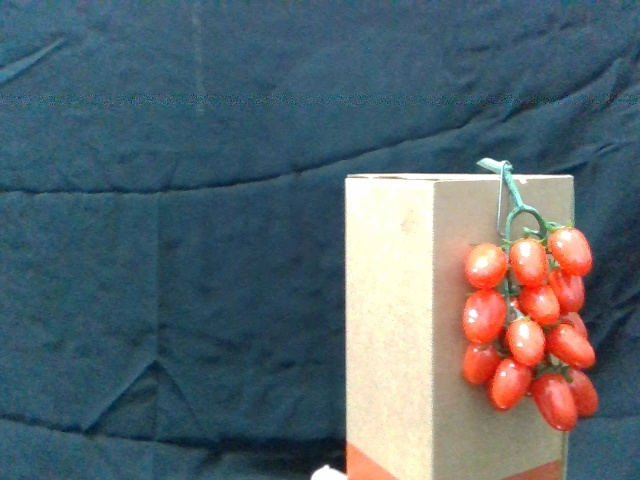tomato: (532, 365, 580, 434), (461, 288, 507, 348), (546, 222, 597, 275), (560, 362, 603, 419), (545, 322, 598, 368), (489, 358, 531, 414), (468, 241, 511, 293), (519, 277, 563, 326), (509, 236, 550, 288), (506, 318, 547, 370), (461, 340, 500, 391), (549, 265, 587, 313)
